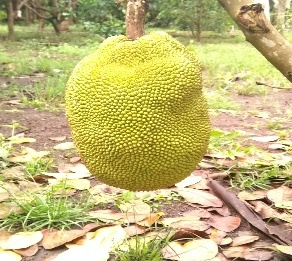Mit: (65, 34, 210, 190)
